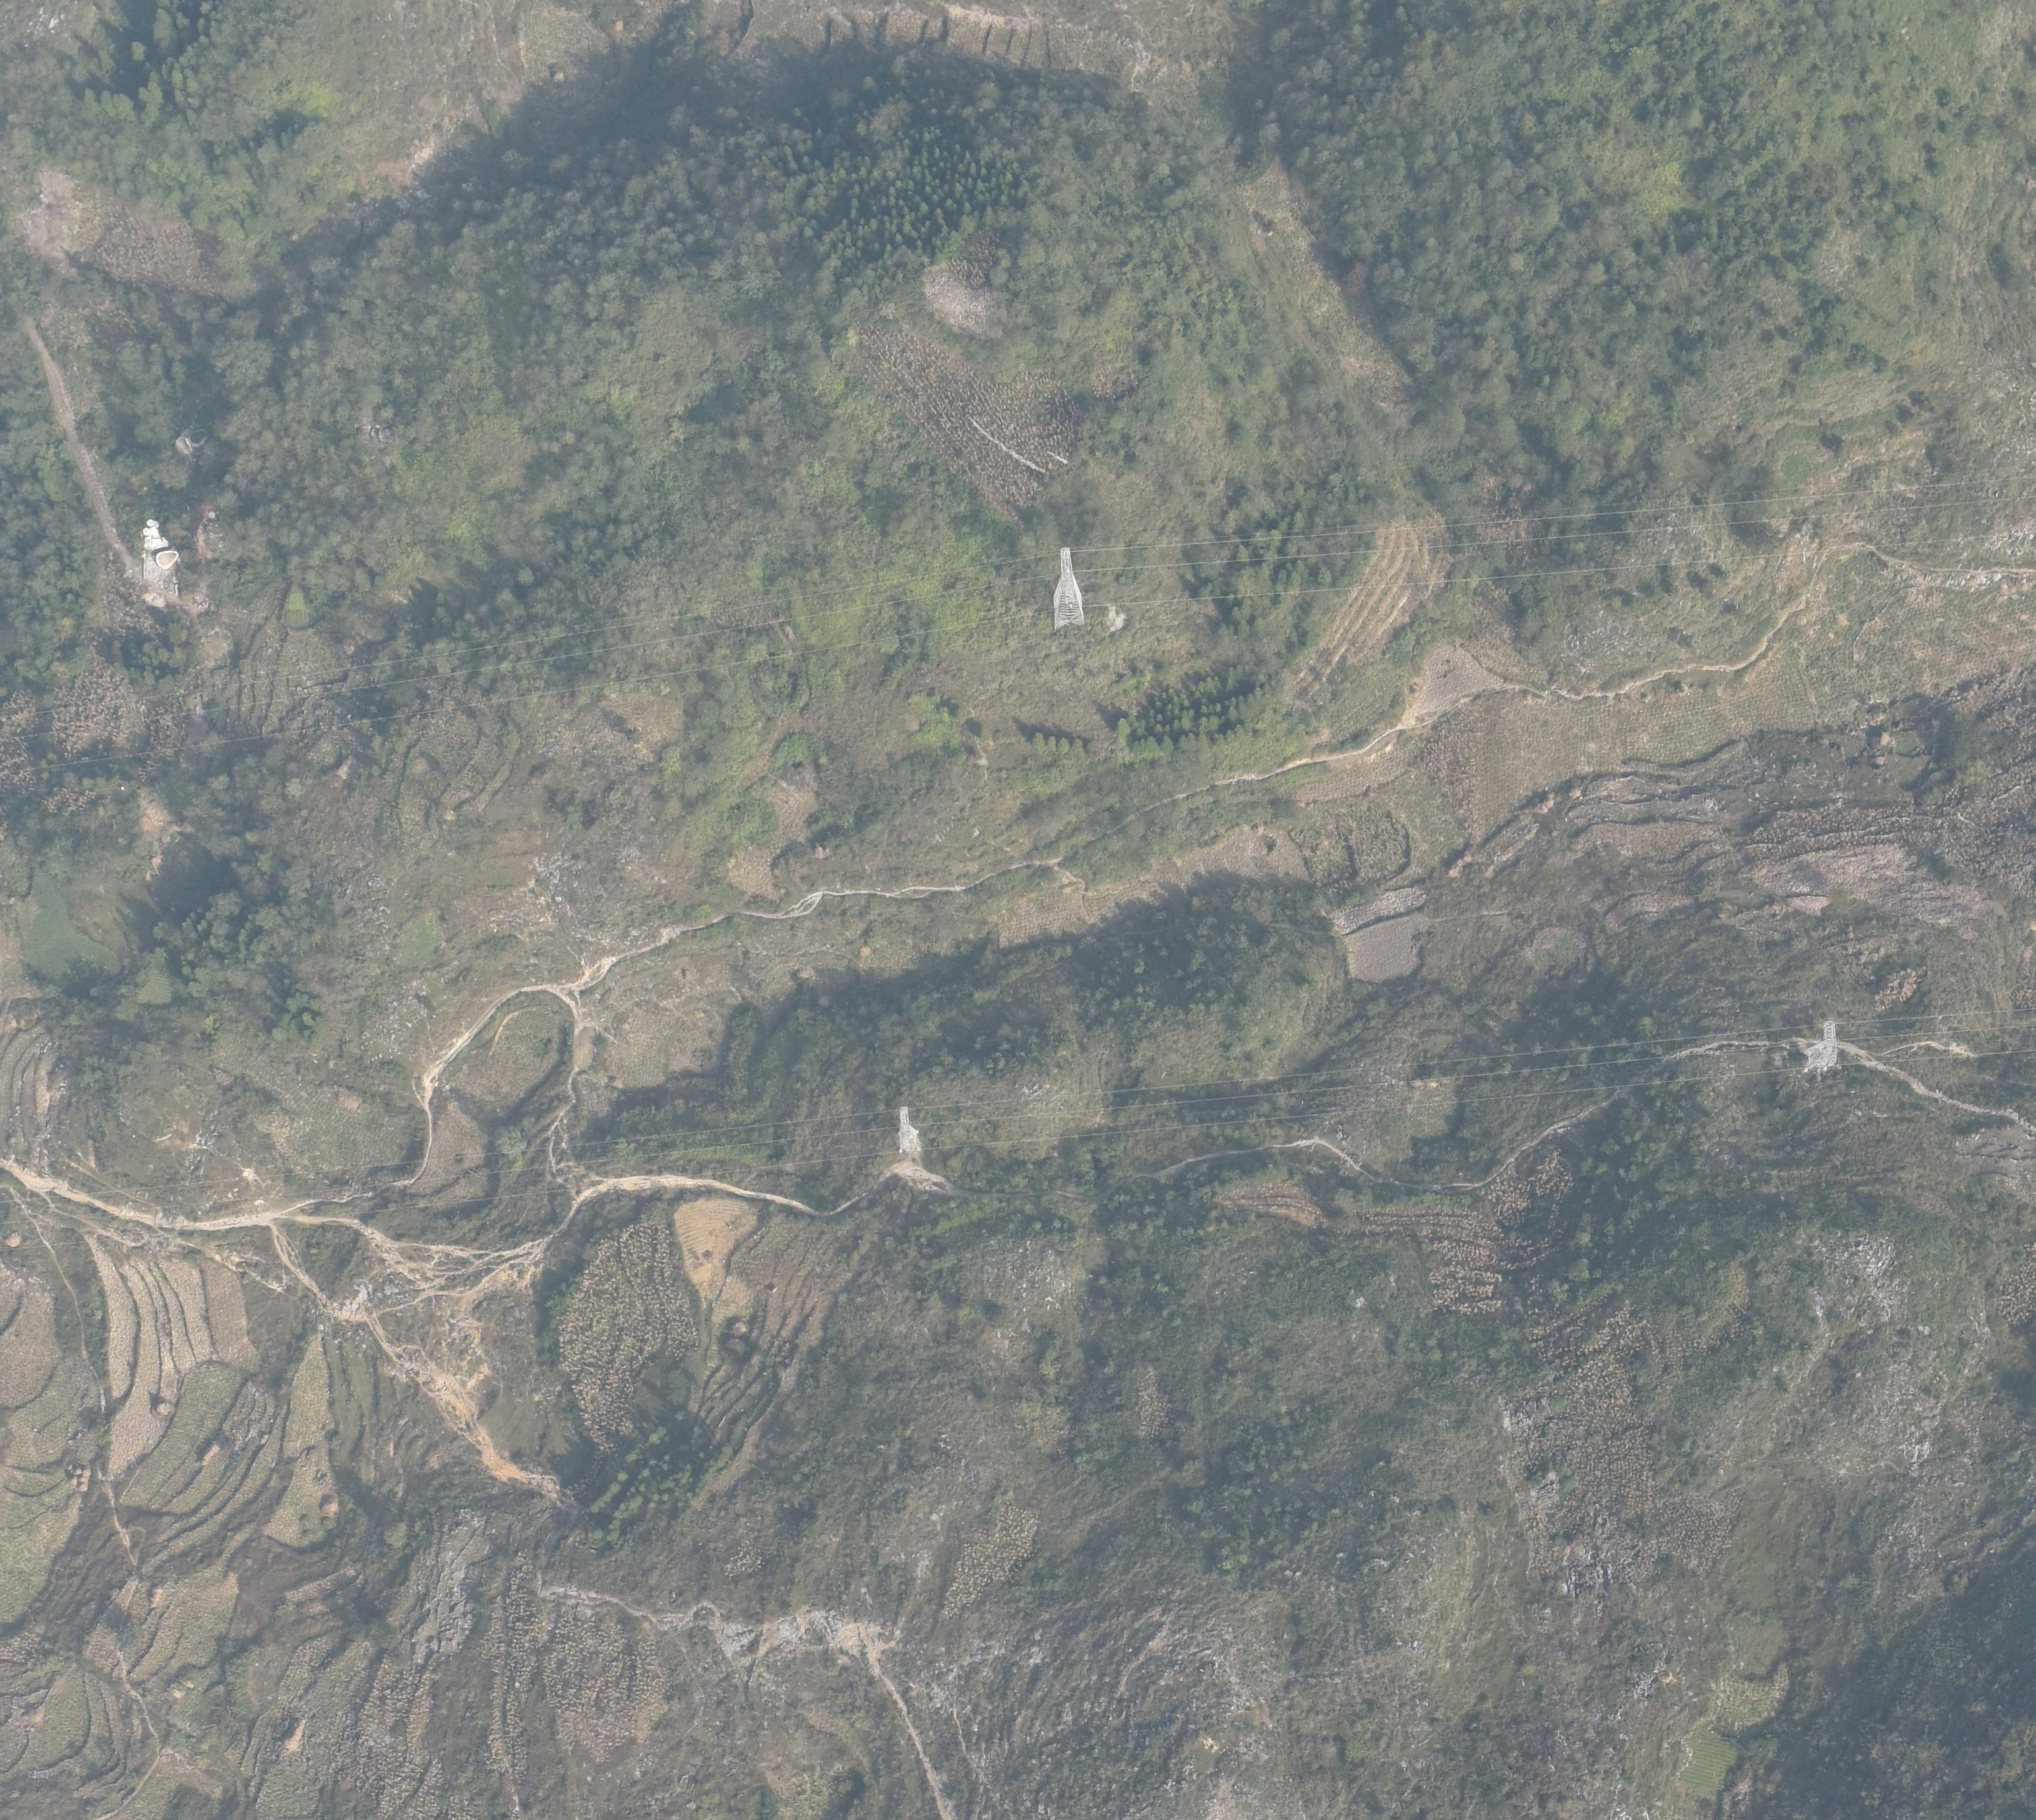cable-tower: (1052, 546, 1084, 629), (1801, 1021, 1837, 1075), (898, 1107, 921, 1151)
